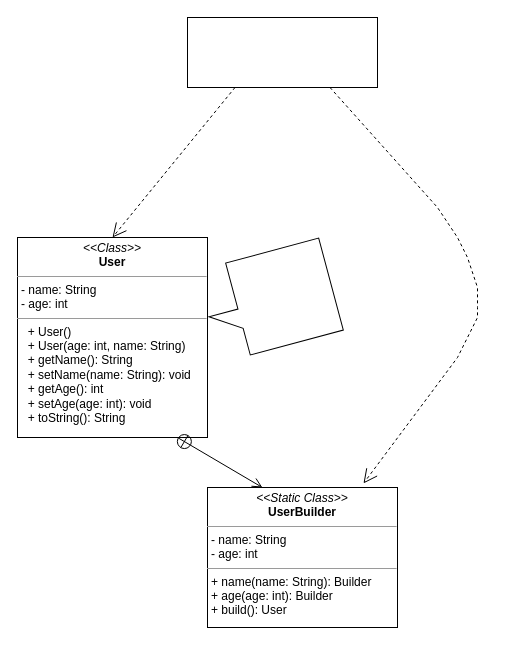
Some shapes in this 509 by 645 pixel diagram are drawn without their labels. The shapes that lost their labels are listed below. From the top down, each one's box as (x1, y1, x2, y2) in pixels, then its label:
(186, 16, 378, 88): <<Class>> Builder + main(args: String[]): void
(196, 237, 344, 363): Builder Pattern
